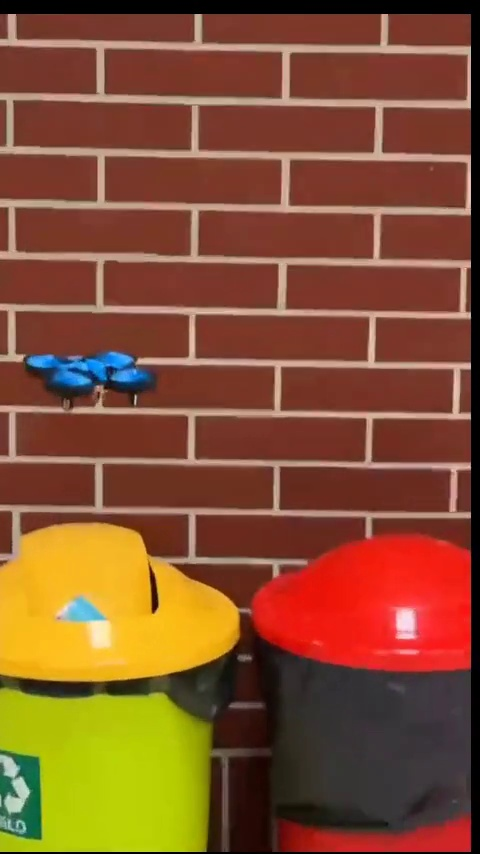drone: (23, 349, 157, 416)
